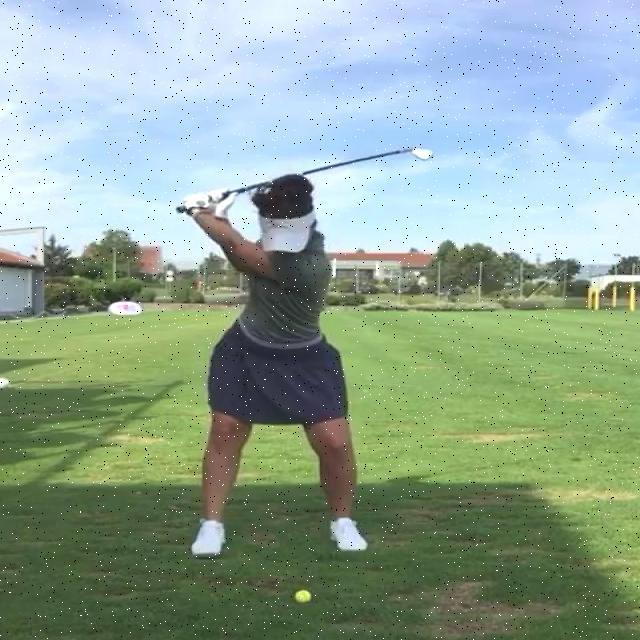golf ball: (293, 589, 310, 602)
golf club-handle: (177, 149, 432, 212)
golf club-head: (411, 148, 431, 161)
